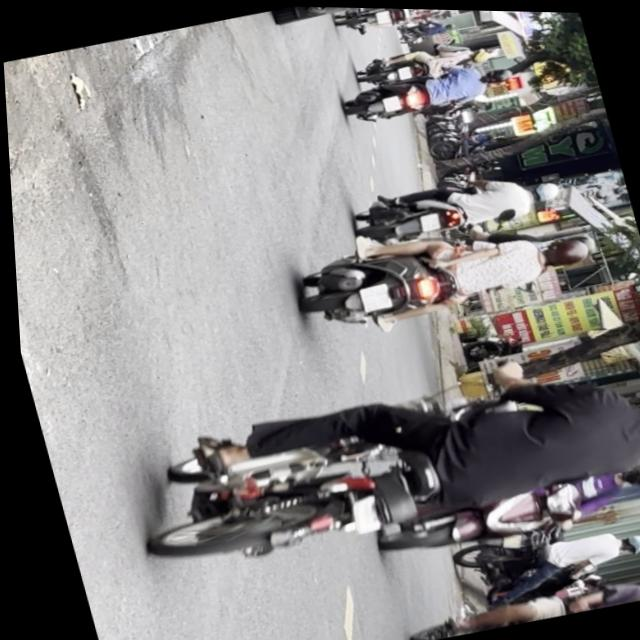helmet: (537, 231, 591, 268), (612, 452, 640, 488), (526, 177, 560, 203), (612, 528, 640, 552), (481, 62, 513, 83)
licenseplate: (109, 322, 640, 596), (283, 199, 601, 347), (361, 444, 640, 565), (437, 502, 640, 618), (342, 155, 567, 254), (337, 51, 521, 131)
nohelmet: (355, 280, 391, 311), (415, 210, 439, 230), (381, 92, 403, 109)
